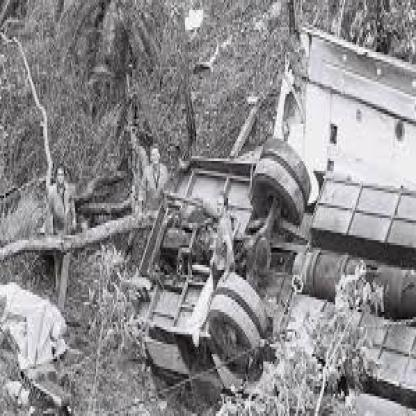accident: (162, 152, 416, 402)
